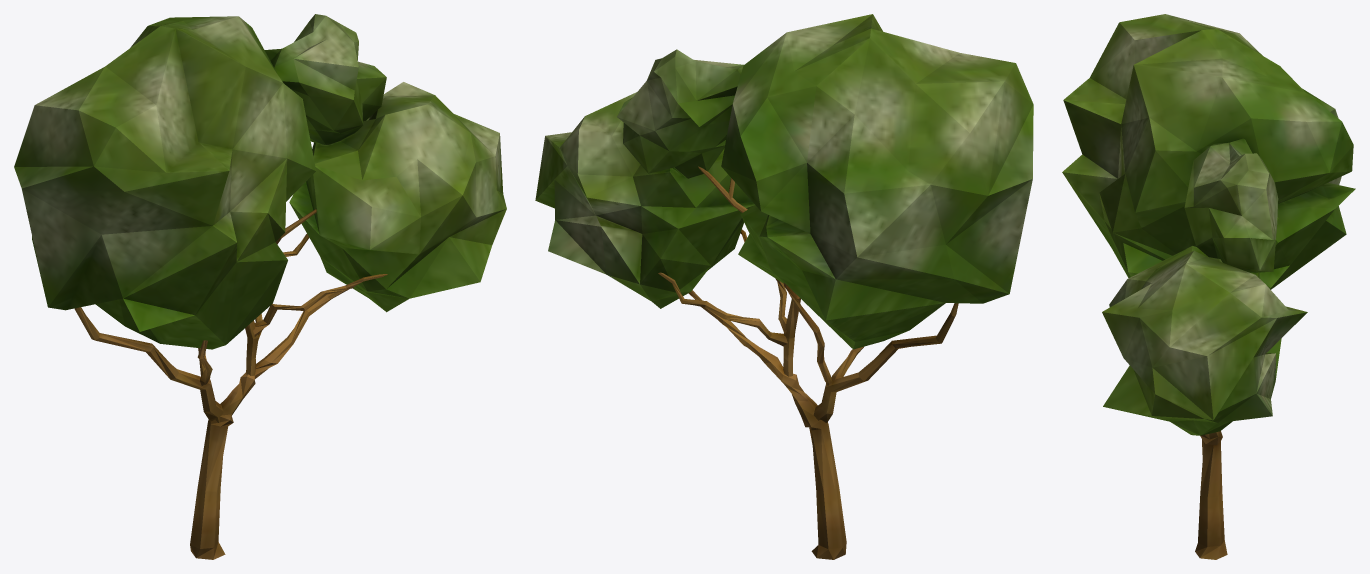
File: bloodwood.glb
3 renders of one model, left to right at view 1: azimuth 30°, elevation 25°; view 2: azimuth 150°, elevation 25°; view 3: azimuth 270°, elevation 25°, orthographic. The views are drawn at different scales.
Visible parts, largest first — view 1: BloodwoodTree_mesh; view 2: BloodwoodTree_mesh; view 3: BloodwoodTree_mesh.
Part boxes in pixels (box(x1,y1,x2,y2)): BloodwoodTree_mesh: box(14, 14, 506, 559); BloodwoodTree_mesh: box(535, 14, 1033, 559); BloodwoodTree_mesh: box(1062, 14, 1355, 559).
Bounding box in the file's own units: 11.3 × 11.77 × 6.2.
Materials: 1 (1 with a texture image).
